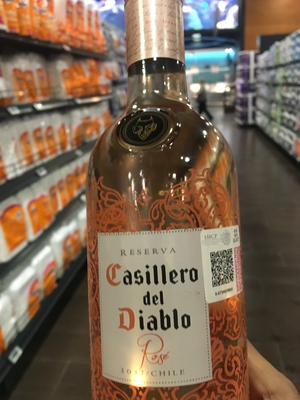casillero del diablo rose: (83, 2, 253, 398)
